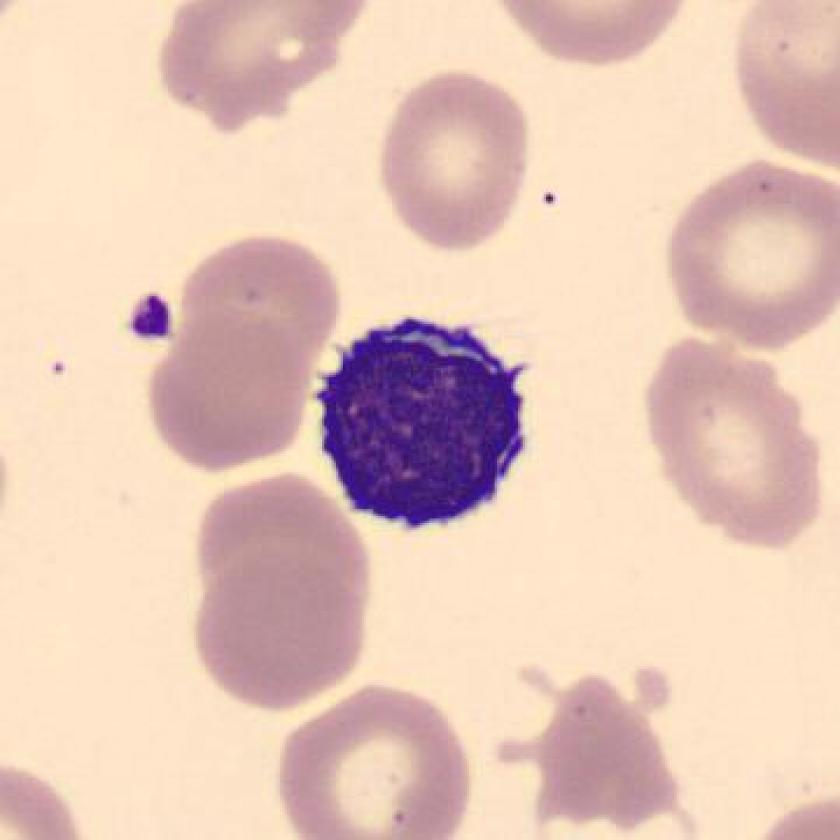lymphocyte: (300, 304, 542, 554)
